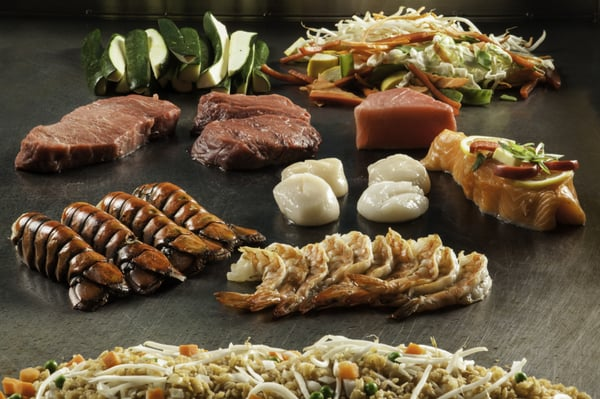soup: (420, 130, 586, 231)
